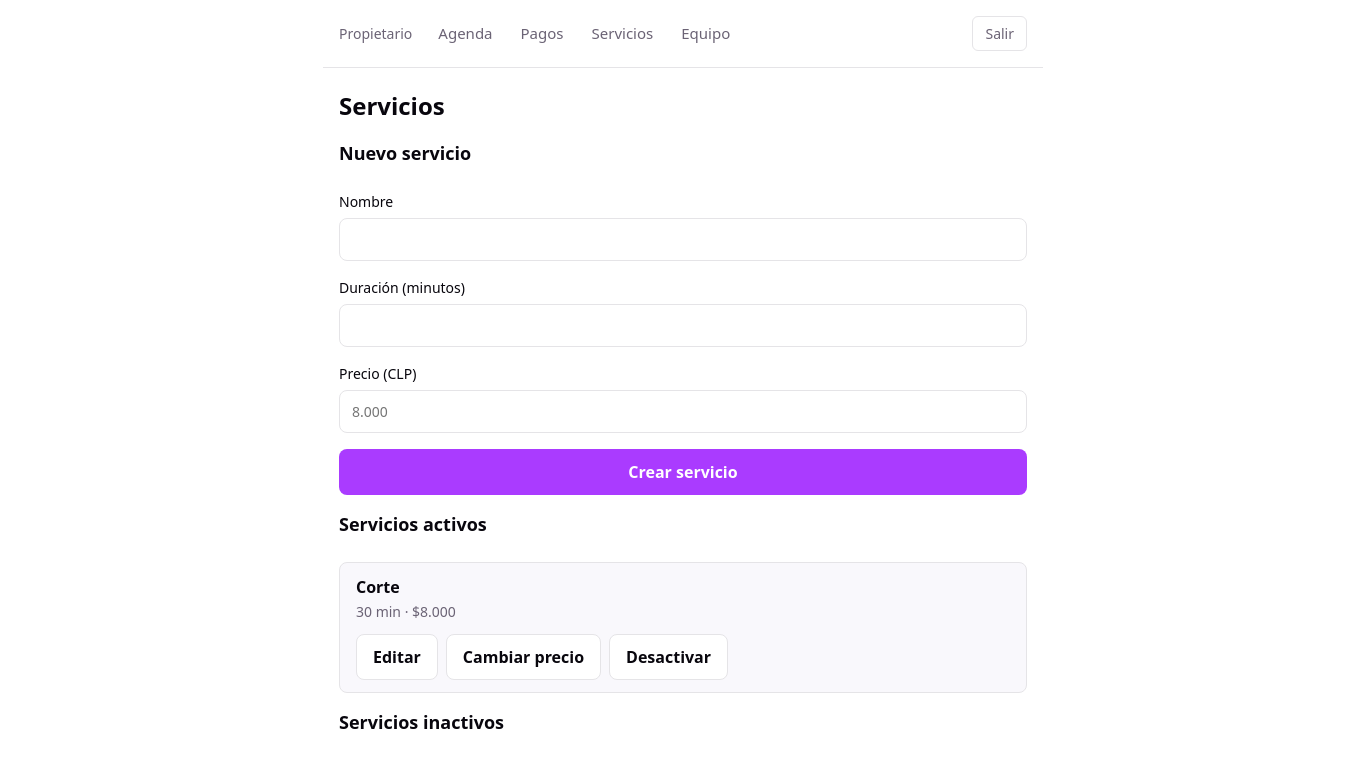
Test: RF-7: desactivar pide confirmación y mueve el servicio a inactivos
Expected: the text "Corte" is shown, [356,576,400,598]
Click the button with aria-label "Desactivar Corte". click: {"x": 668, "y": 657}
box: [609,634,728,680]
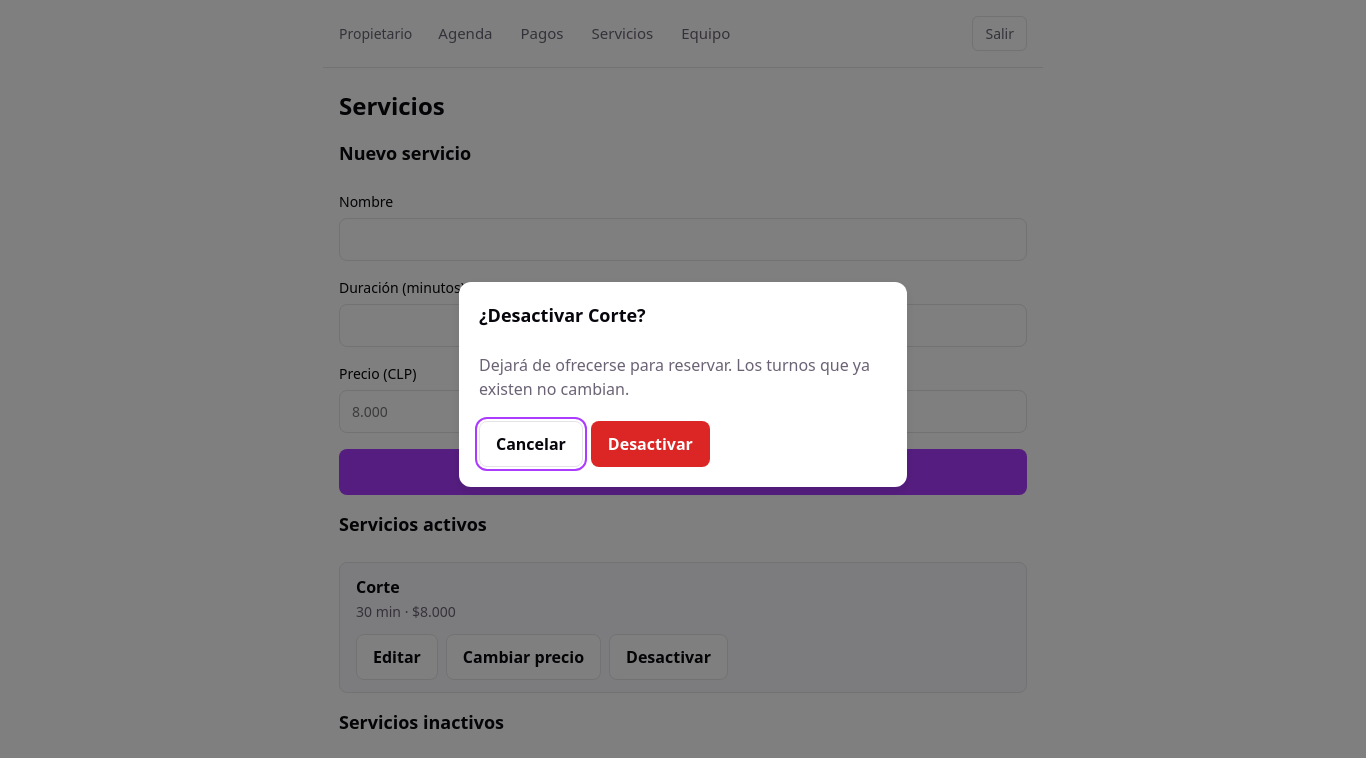
Click the button "Desactivar". click: {"x": 650, "y": 444}
box: [591,420,710,466]
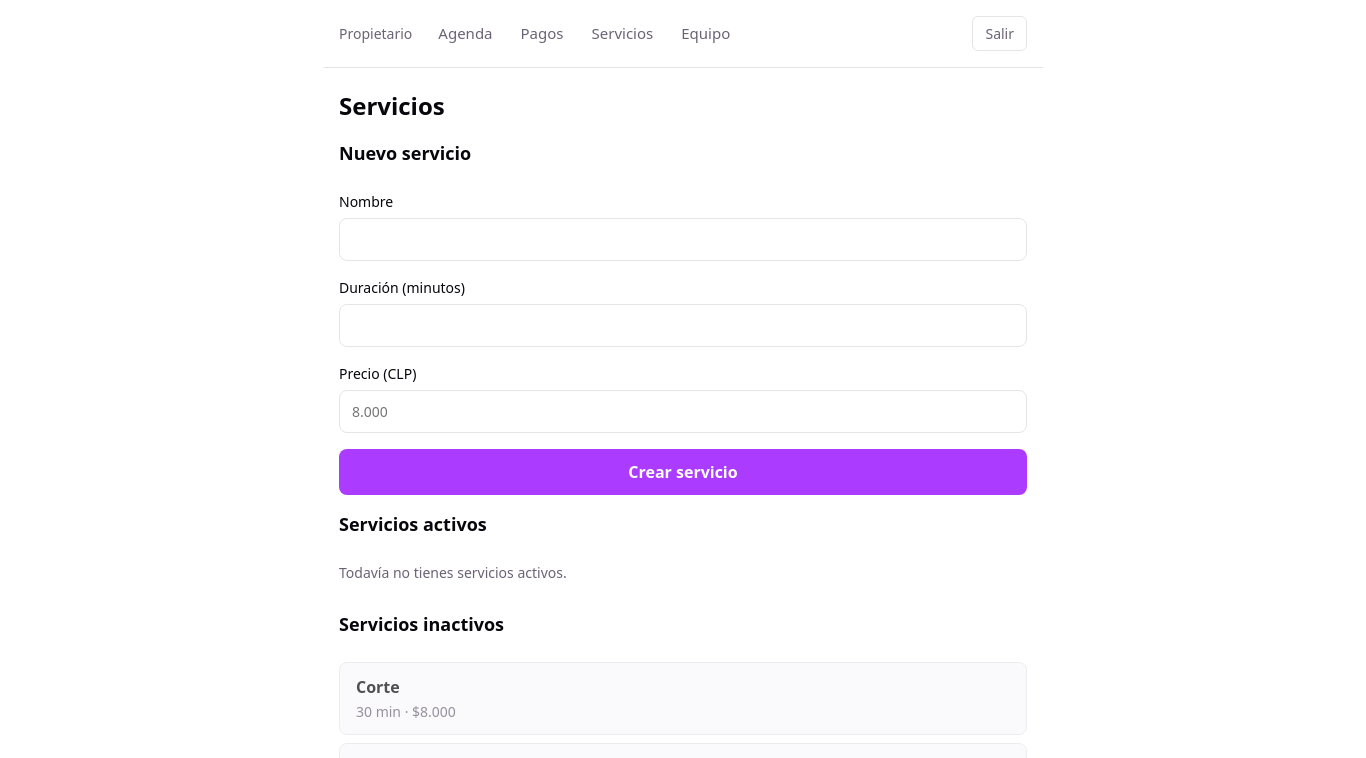
Expected: the text "Corte" is shown, [356,676,400,698]
Now the dialog is gone
